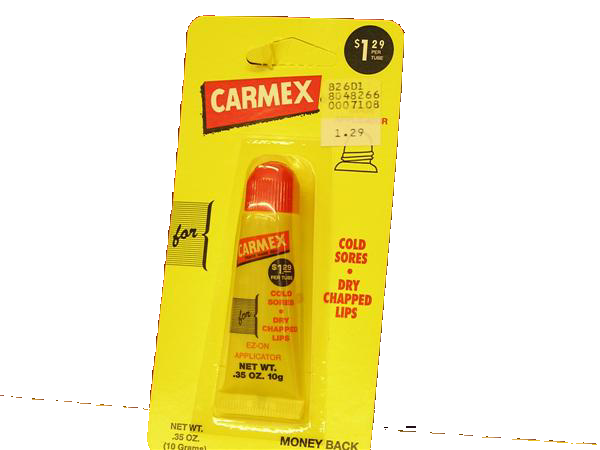grozi_47: (148, 15, 404, 450)
